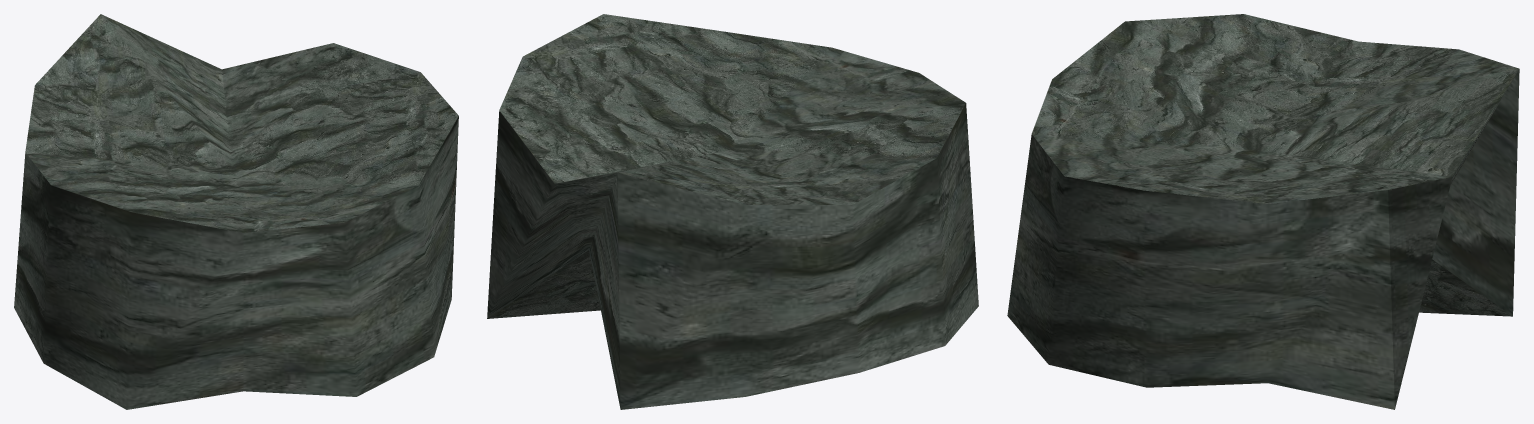
The model's file is rock_7.glb.
3 renders of one model, left to right at view 1: azimuth 30°, elevation 25°; view 2: azimuth 150°, elevation 25°; view 3: azimuth 270°, elevation 25°, orthographic. The views are drawn at different scales.
Parts seen in each view (by area): view 1: 7-512 (×2); view 2: 7-512 (×2); view 3: 7-512 (×2).
Part boxes in pixels (x1,y1,x2,y2): 7-512 (×2): (14,14,458,409); 7-512 (×2): (487,14,978,409); 7-512 (×2): (1007,14,1519,409).
Size of the model in its own units: 10.16 by 5.67 by 10.63.
Materials: 1 (1 with a texture image).
